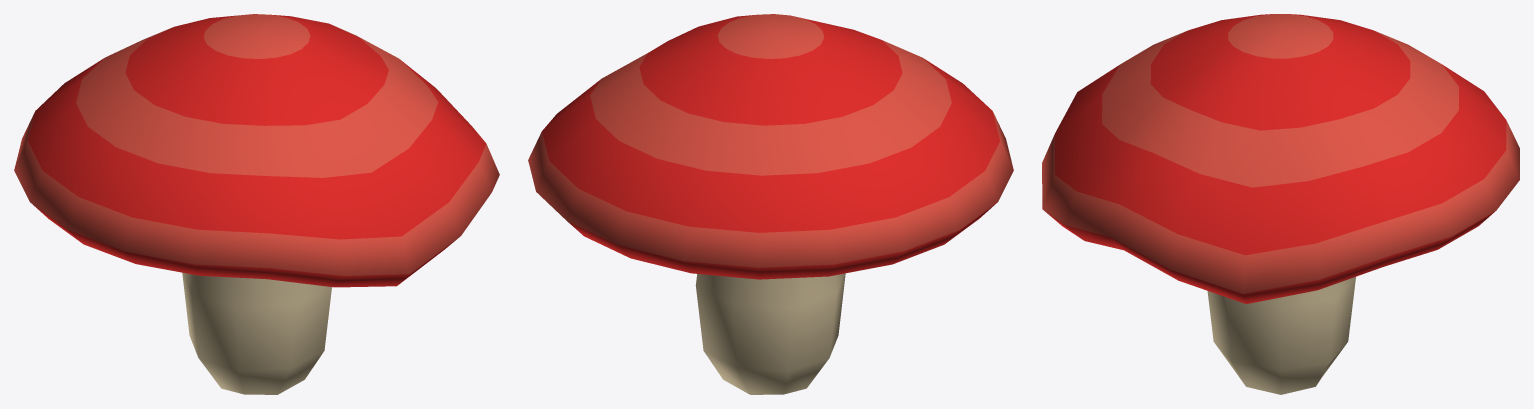
The model's file is Mushroom.fbx.
The picture shows the model from 3 angles, left to right: view 1: azimuth 30°, elevation 25°; view 2: azimuth 150°, elevation 25°; view 3: azimuth 270°, elevation 25°; orthographic projection.
Parts seen in each view (by area): view 1: Mushroom; view 2: Mushroom; view 3: Mushroom.
Boxes of the visible parts, bbox=[...] form: Mushroom: bbox=[14, 14, 499, 394]; Mushroom: bbox=[528, 14, 1013, 394]; Mushroom: bbox=[1042, 14, 1519, 394].
Bounding box in the file's own units: 1.24 × 1.03 × 1.24.
